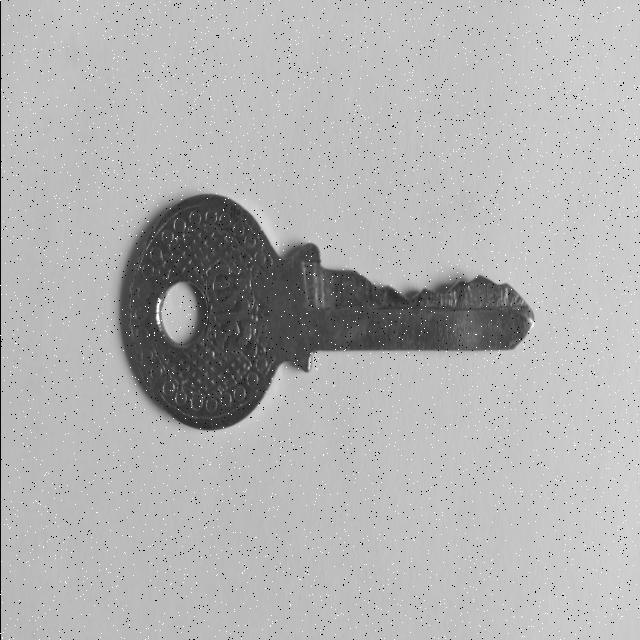key: (128, 195, 533, 431)
